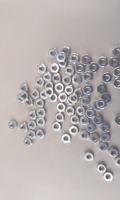nut: (101, 73, 113, 84), (97, 84, 108, 95), (109, 58, 120, 68), (88, 63, 99, 73), (75, 63, 85, 74), (101, 94, 112, 104), (70, 53, 80, 64), (65, 65, 75, 76), (61, 47, 72, 57), (57, 52, 67, 63), (72, 75, 83, 85), (97, 99, 107, 110), (100, 124, 111, 134), (94, 115, 105, 125), (80, 116, 90, 127), (100, 133, 111, 143), (98, 143, 109, 153), (104, 171, 114, 182), (63, 75, 73, 86), (82, 55, 92, 65), (83, 72, 93, 82), (83, 85, 93, 95), (81, 96, 91, 106), (86, 109, 96, 119), (109, 148, 119, 158), (85, 152, 95, 162), (97, 164, 107, 174), (62, 134, 72, 144), (52, 122, 62, 132), (23, 138, 33, 148), (58, 93, 68, 103), (74, 89, 84, 99), (8, 121, 18, 131), (55, 113, 65, 123), (38, 64, 48, 74), (50, 63, 60, 73), (52, 74, 62, 84), (35, 78, 45, 88), (35, 99, 45, 109), (99, 57, 108, 68), (49, 92, 58, 103), (31, 89, 40, 100), (49, 49, 58, 59), (93, 101, 102, 111), (57, 103, 66, 113), (91, 134, 100, 144), (81, 131, 90, 141), (70, 126, 79, 136), (71, 115, 80, 125), (77, 106, 86, 116), (66, 106, 75, 116), (70, 94, 79, 104), (37, 109, 47, 118), (55, 83, 64, 93), (65, 85, 74, 95), (45, 87, 54, 97), (43, 72, 52, 82), (20, 84, 29, 94), (112, 47, 120, 58), (36, 130, 45, 139), (37, 118, 46, 127), (28, 121, 37, 130), (27, 131, 36, 140), (19, 123, 28, 132), (28, 111, 37, 120), (20, 92, 29, 101), (17, 95, 26, 104), (40, 90, 48, 100), (25, 97, 33, 107), (67, 98, 76, 106), (113, 79, 120, 89), (58, 61, 68, 68), (114, 67, 120, 78), (45, 83, 54, 90), (115, 116, 120, 126), (116, 157, 120, 167)
